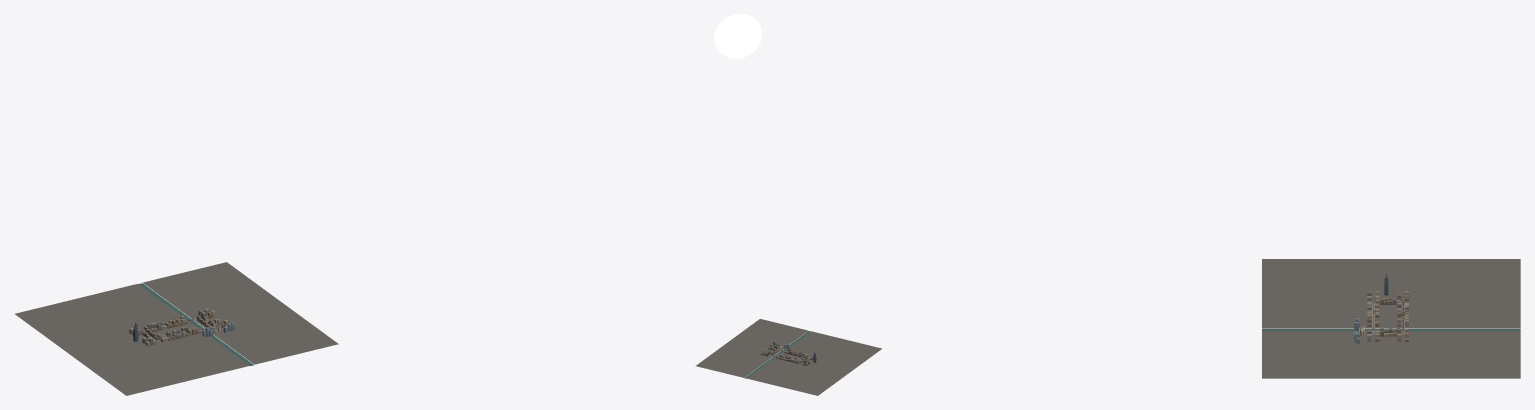
File: chicago.glb
The picture shows the model from 3 angles, left to right: view 1: azimuth 30°, elevation 25°; view 2: azimuth 150°, elevation 25°; view 3: azimuth 270°, elevation 25°; orthographic projection. The views are drawn at different scales.
Parts seen in each view (by area): view 1: Land_002; view 2: Land_002, Sun; view 3: Land_002.
Boxes of the visible parts, box(x1,y1,x2,y2) form: Land_002: box(15, 262, 338, 395); Land_002: box(696, 319, 881, 395); Sun: box(714, 14, 762, 58); Land_002: box(1262, 259, 1520, 378).
Size of the model in its own units: 4714 by 4167 by 5184.
